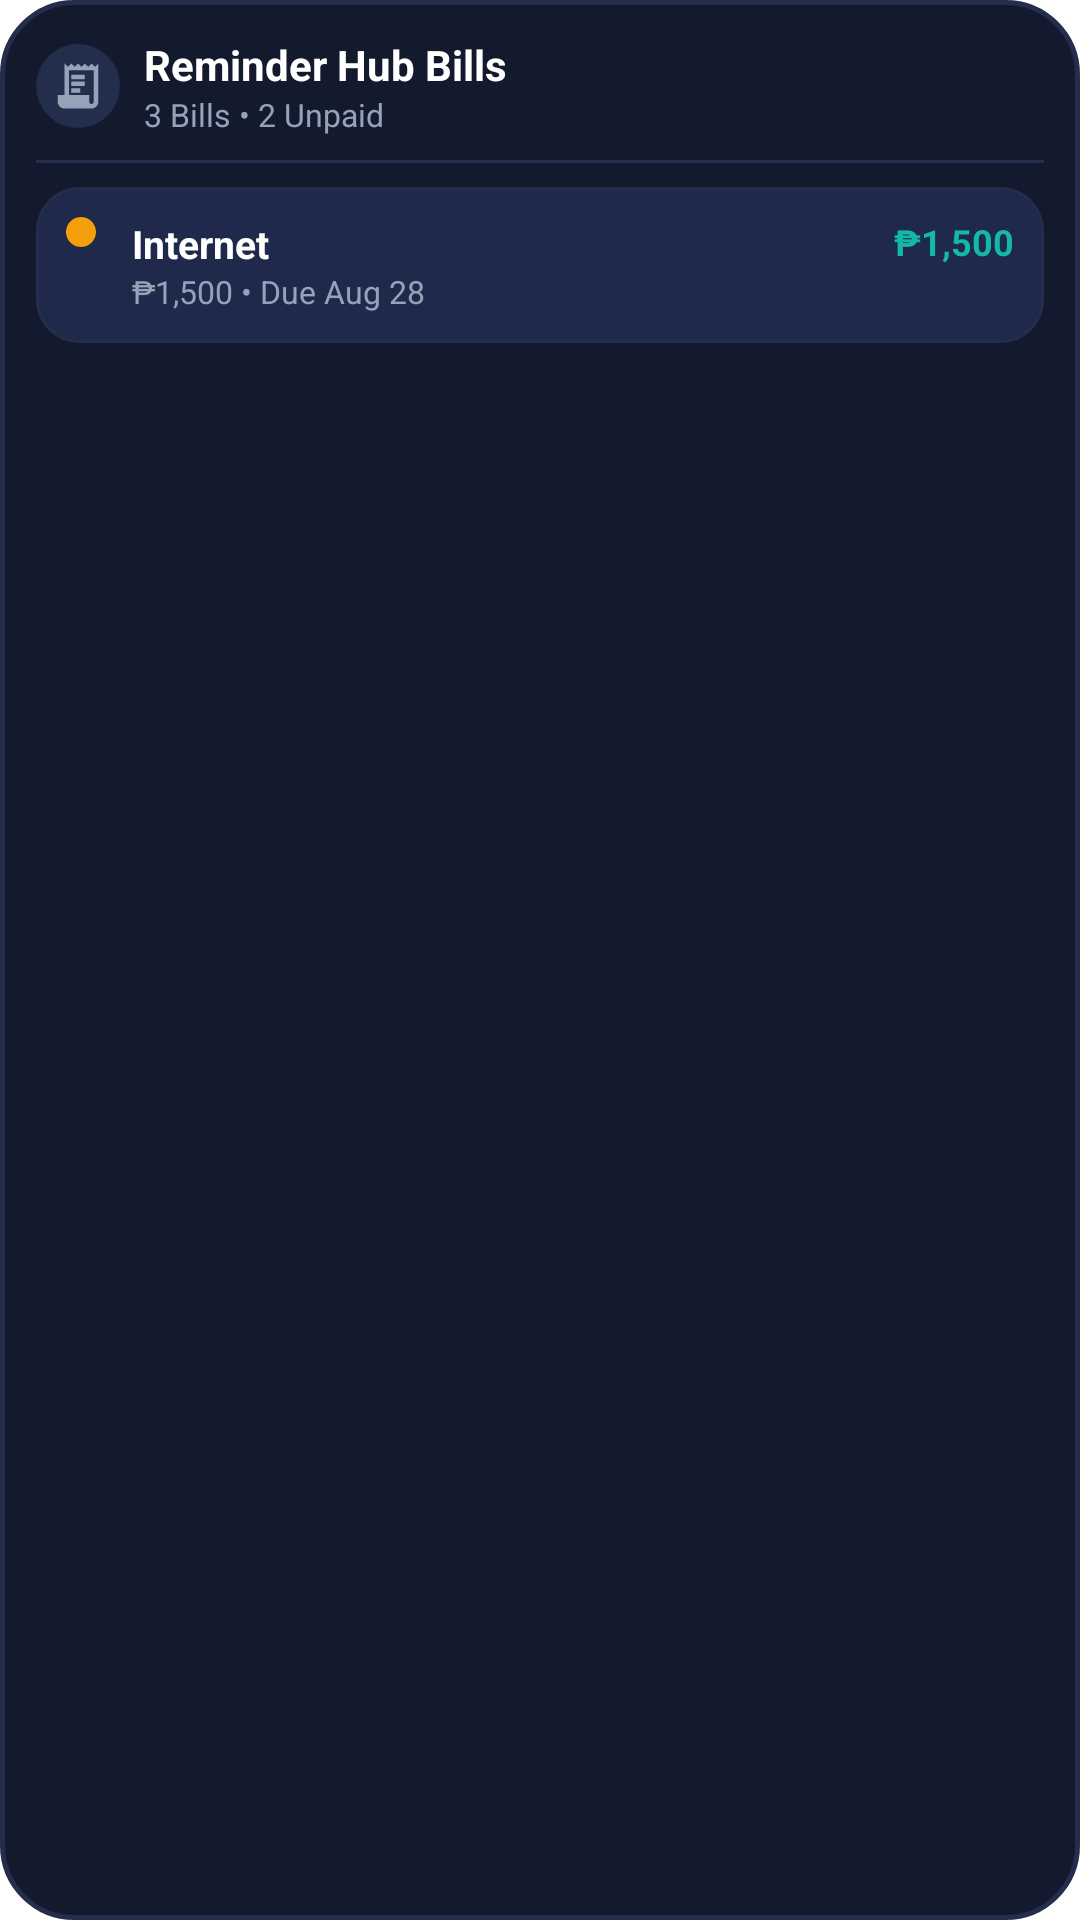

Screen size 1080x1920. Icon name, then its box in pixels as (x1, y1, x2, y2):
receipt: (57, 63, 99, 109)
